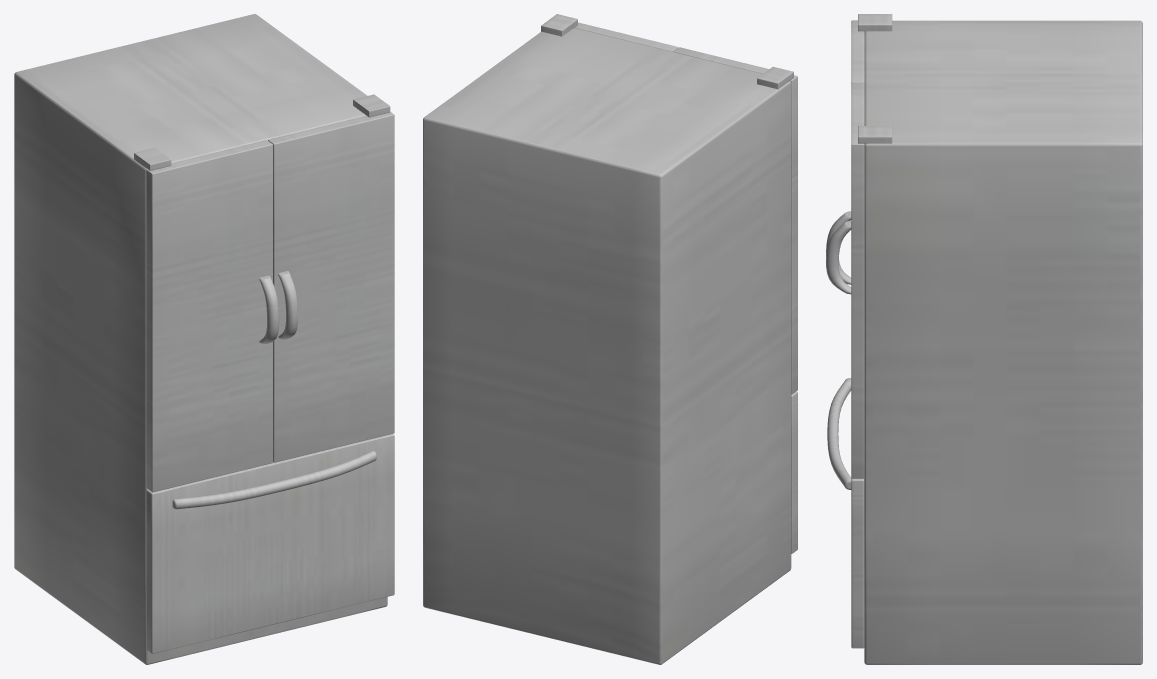
File: refrigerator.fbx
3 views of the same model, side by side, from view 1: azimuth 30°, elevation 25°; view 2: azimuth 150°, elevation 25°; view 3: azimuth 270°, elevation 25° (orthographic). The views are drawn at different scales.
Visible parts, largest first — view 1: polySurface4; view 2: polySurface4; view 3: polySurface4.
Boxes of the visible parts, box(x1,y1,x2,y2) form: polySurface4: box(14, 14, 394, 664); polySurface4: box(423, 14, 797, 664); polySurface4: box(826, 14, 1142, 664).
Size of the model in its own units: 14.02 by 27.8 by 15.11.
1 material, 1 textured.
